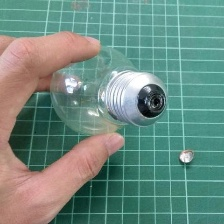light_bulb: (44, 38, 169, 142)
